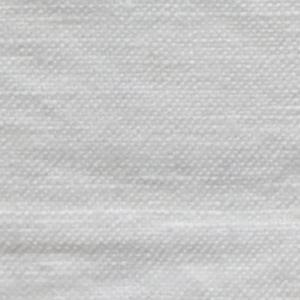Wrinkle: (1, 232, 205, 270)
